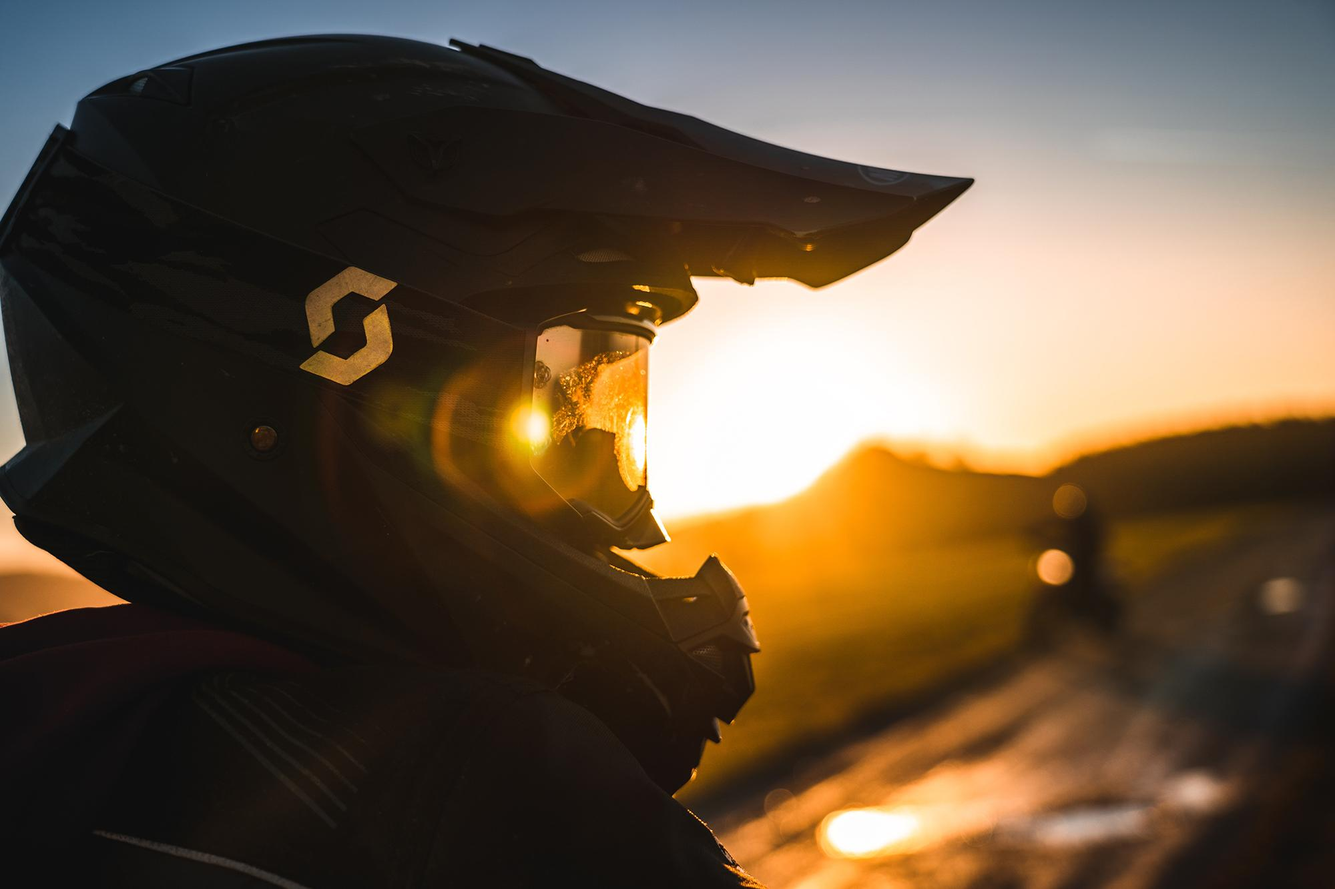helmet: (0, 27, 981, 820)
